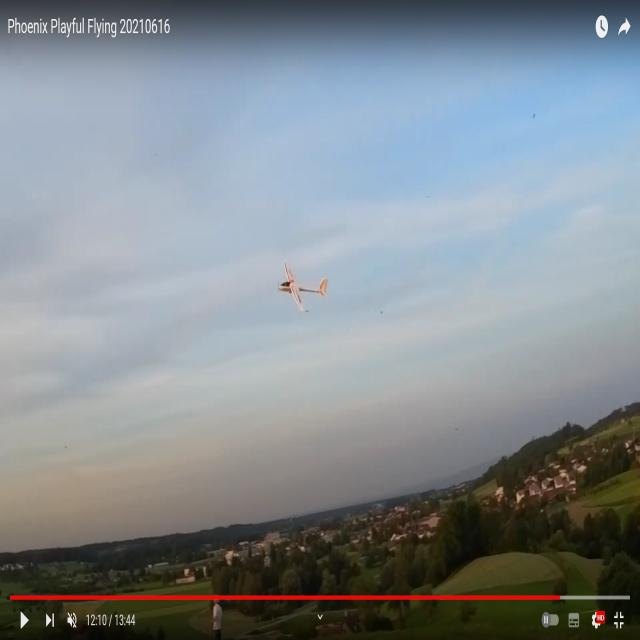iha: (281, 260, 326, 317)
